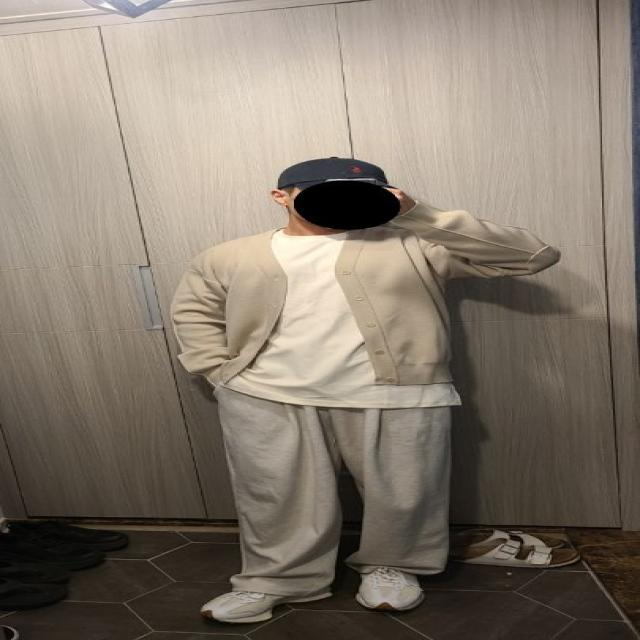cardigan: (169, 197, 558, 390)
trainingpants: (203, 370, 458, 595)
